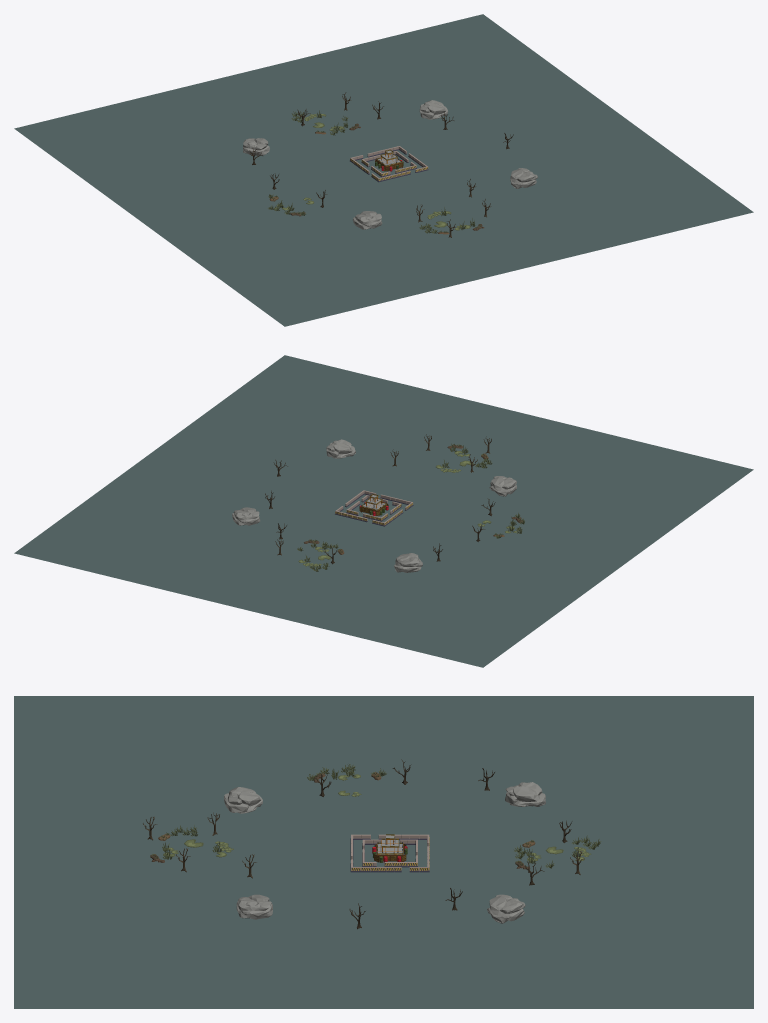
The model's file is SwampScene.fbx.
The picture shows the model from 3 angles, top to bottom: view 1: azimuth 30°, elevation 25°; view 2: azimuth 150°, elevation 25°; view 3: azimuth 270°, elevation 25°; orthographic projection. The views are drawn at different scales.
Visible parts, largest first — view 1: Water, Walls; view 2: Water, Walls; view 3: Water, Walls, SM_Env_Rock_03, SM_Env_Rock_03.001, SM_Env_Rock_03.003, SmallBunker.011, SM_Env_Rock_03.002.
Part boxes in pixels (box(x1,y1,x2,y2)): Water: box(14, 14, 753, 326); Walls: box(350, 146, 428, 182); Water: box(14, 355, 753, 667); Walls: box(335, 490, 413, 526); Water: box(14, 696, 753, 1008); Walls: box(350, 834, 429, 872); SM_Env_Rock_03: box(505, 782, 545, 806); SM_Env_Rock_03.001: box(487, 894, 525, 923); SM_Env_Rock_03.003: box(224, 787, 262, 813); SmallBunker.011: box(372, 834, 407, 862); SM_Env_Rock_03.002: box(236, 894, 272, 919).
Size of what is drawn, in the model's own units: 260 by 10.11 by 260.
Materials: 4 (3 with a texture image).
